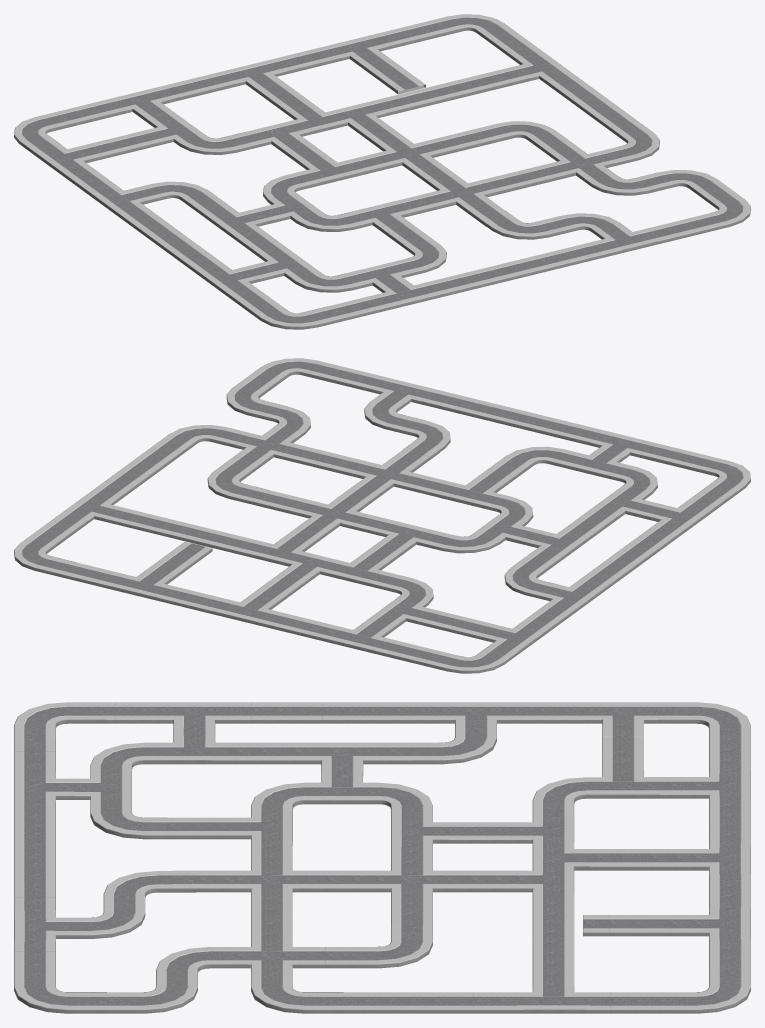
Rendered from road.fbx.
The picture shows the model from 3 angles, top to bottom: view 1: azimuth 30°, elevation 25°; view 2: azimuth 150°, elevation 25°; view 3: azimuth 270°, elevation 25°; orthographic projection. The views are drawn at different scales.
Visible parts, largest first — view 1: backup1:pCube126; view 2: backup1:pCube126; view 3: backup1:pCube126.
Part boxes in pixels (x1,y1,x2,y2): backup1:pCube126: [14, 14, 750, 329]; backup1:pCube126: [14, 358, 750, 673]; backup1:pCube126: [14, 702, 750, 1013].
Bounding box in the file's own units: 32.91 × 0.2071 × 33.32.
